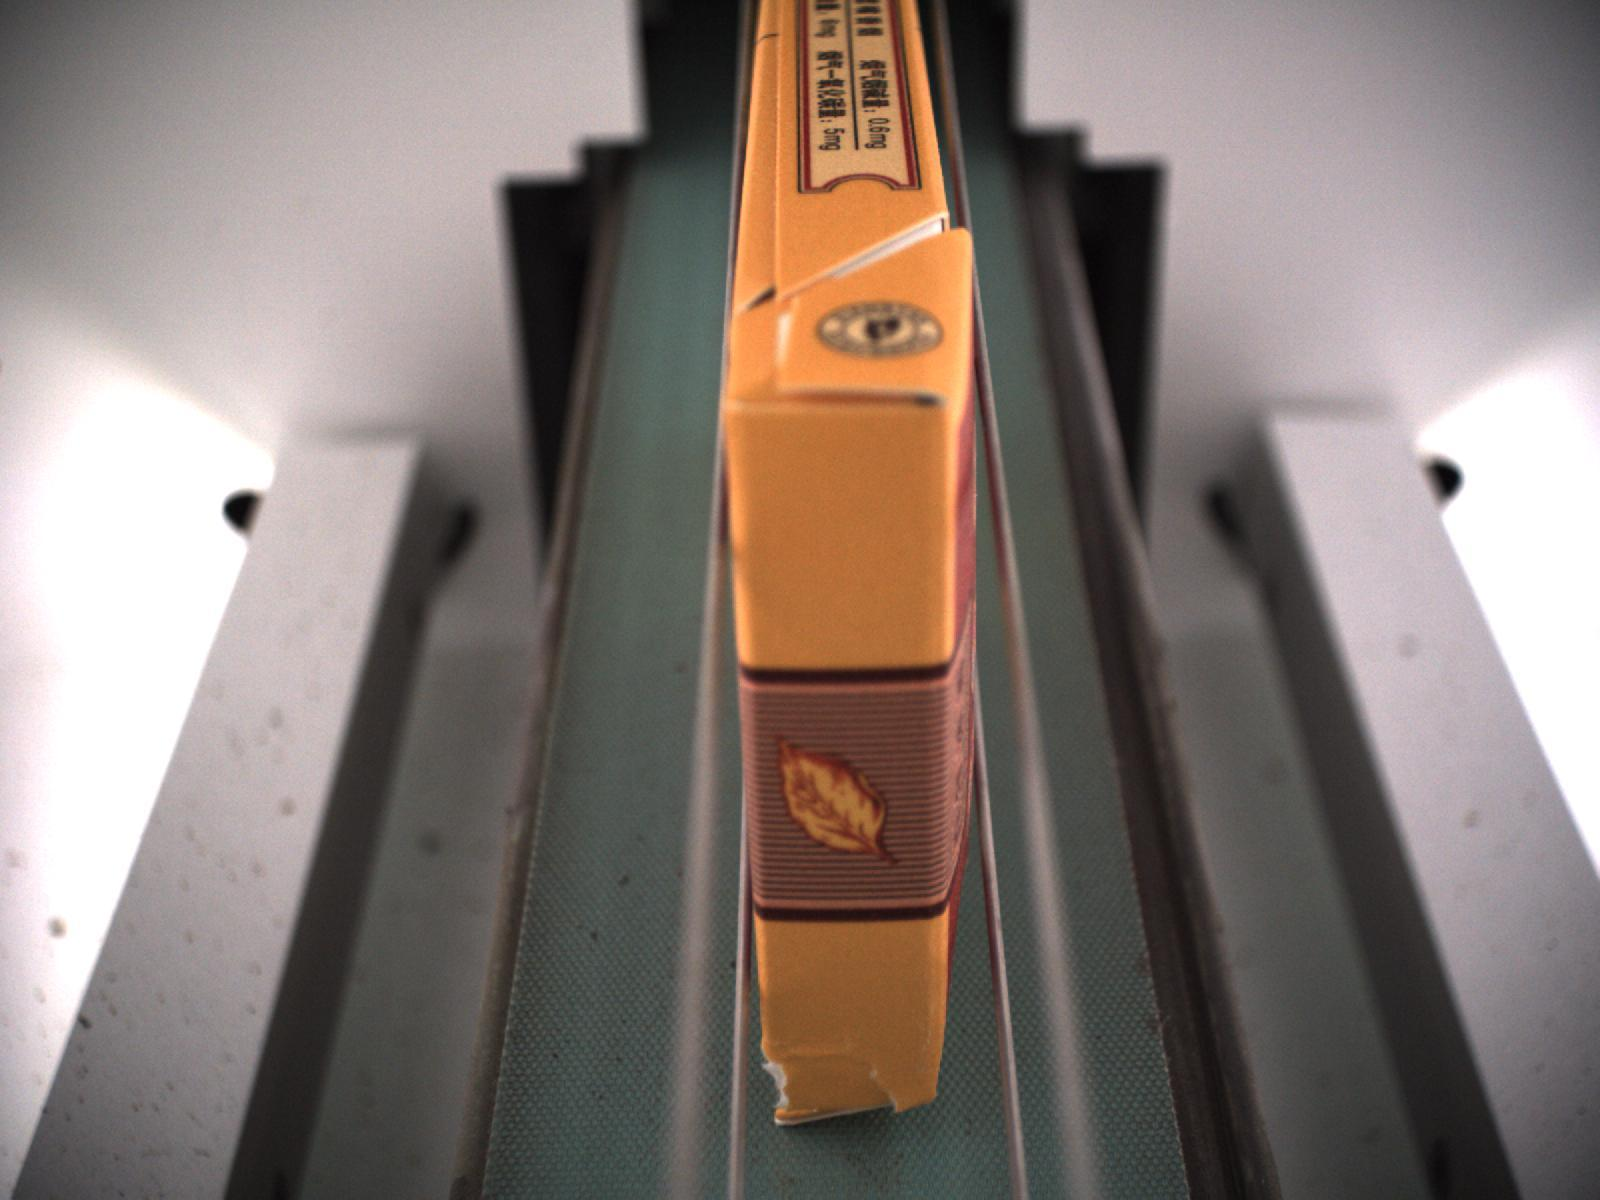headDamage_upper_2: (728, 304, 966, 418)
skewed_upper_2: (736, 15, 802, 318)
